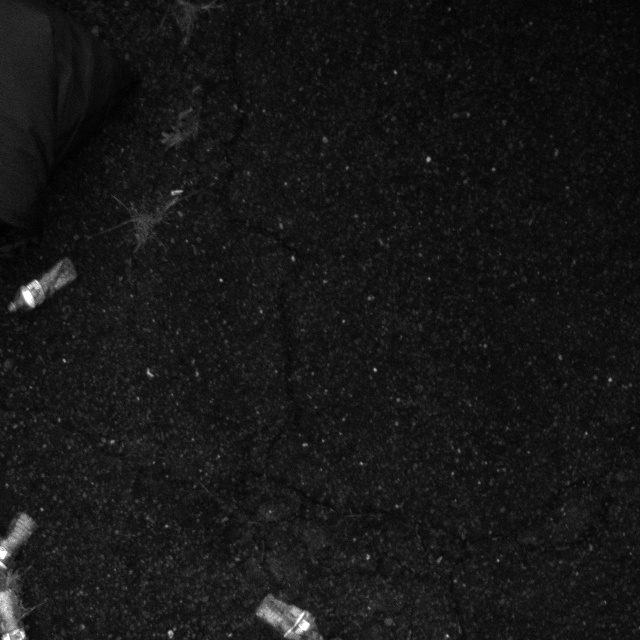bottle: (3, 254, 77, 319)
